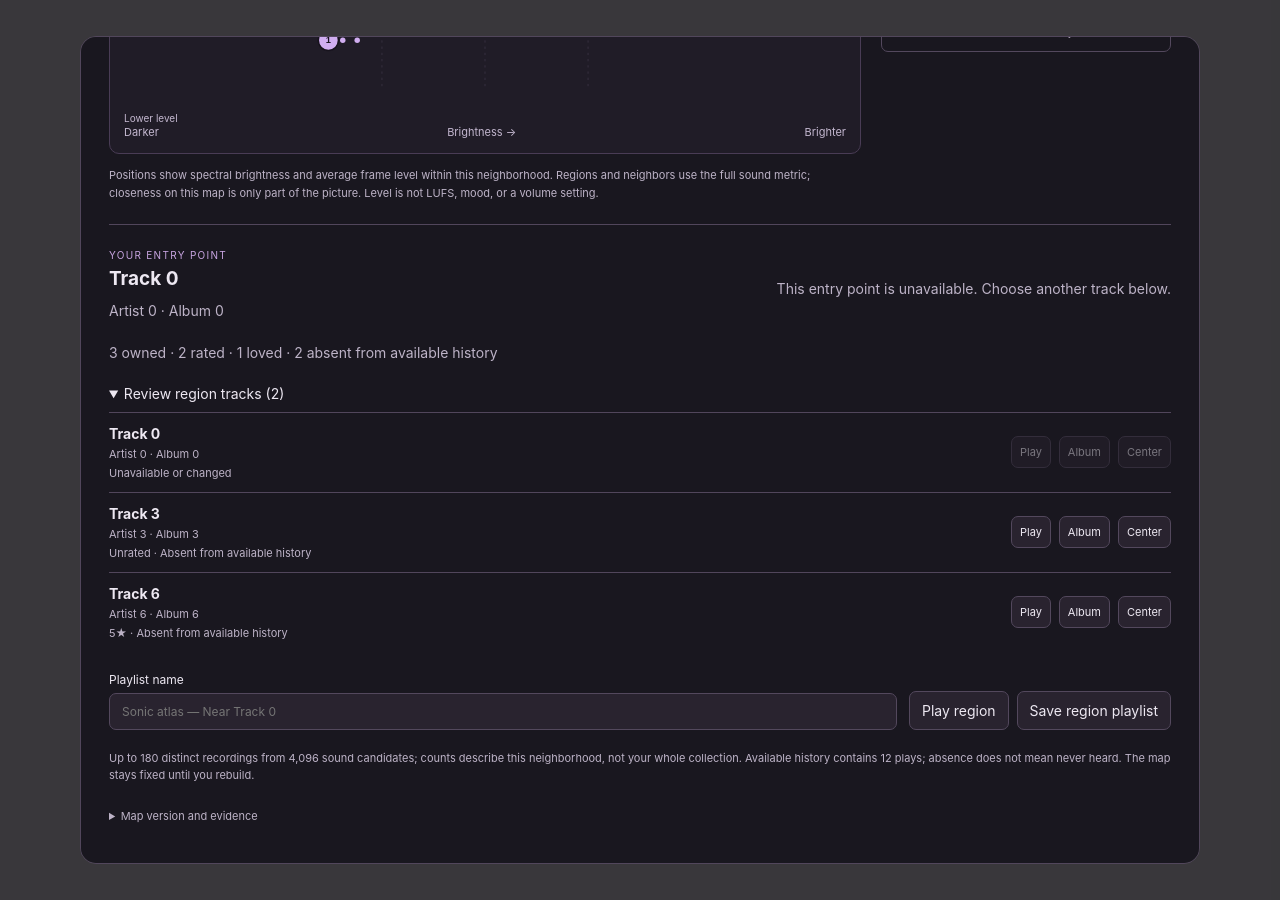
it: excludes unavailable points from actions and reports failed validation without playing
(page scrolled)
Expected: the button with aria-label "Play Track 0" is disabled, [1011, 436, 1051, 468]
Click the button "Play region".
click(959, 710)  # box [909, 691, 1008, 730]
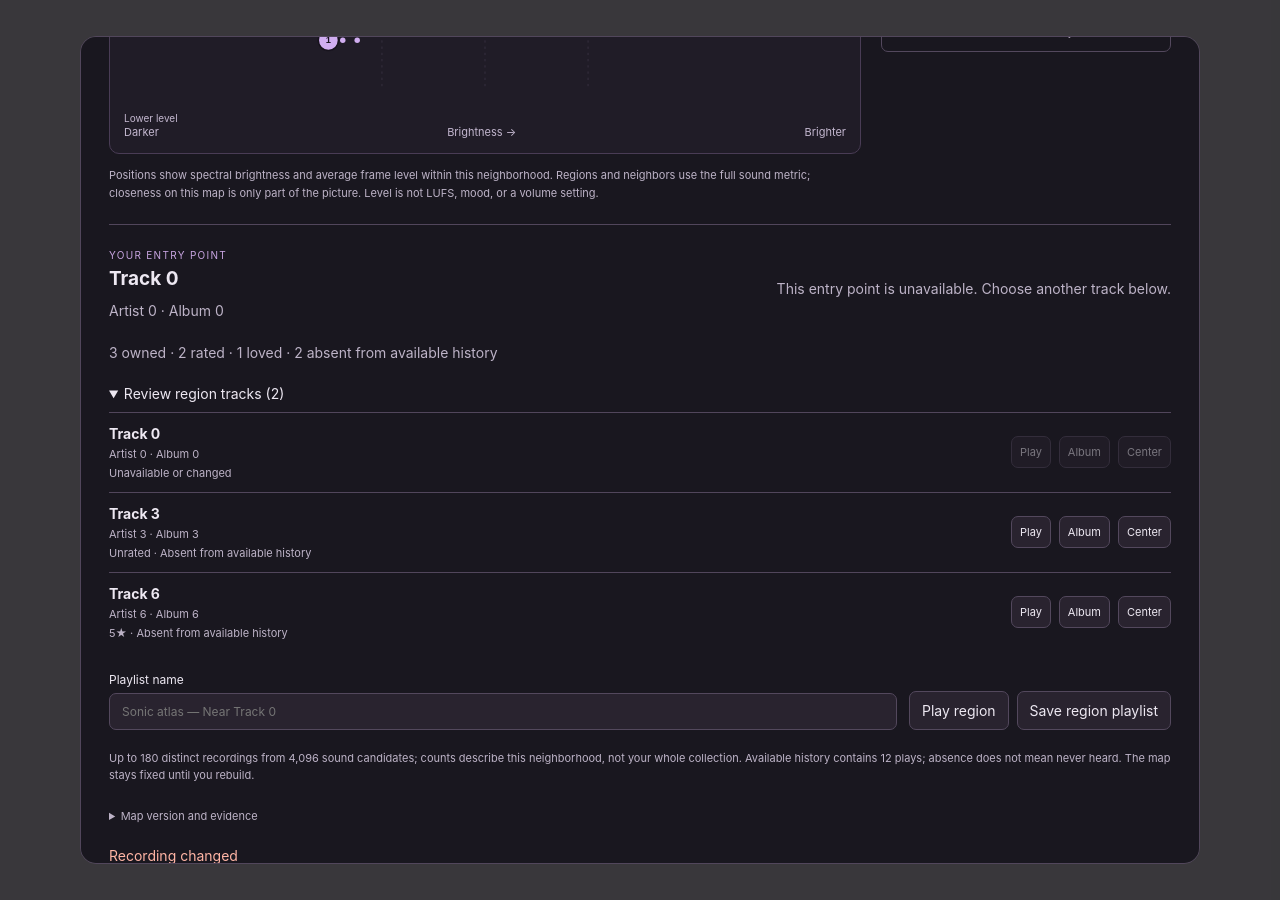
Expected: the message reads "Recording changed", [109, 847, 238, 864]
